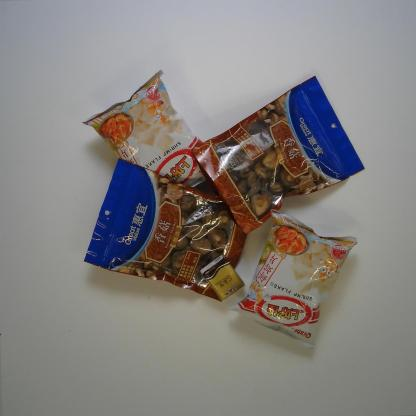Dried Food: (190, 74, 366, 235), (82, 158, 248, 304)
Puffed Food: (227, 208, 358, 352), (81, 68, 207, 188)
Tissue: (199, 253, 246, 304)
